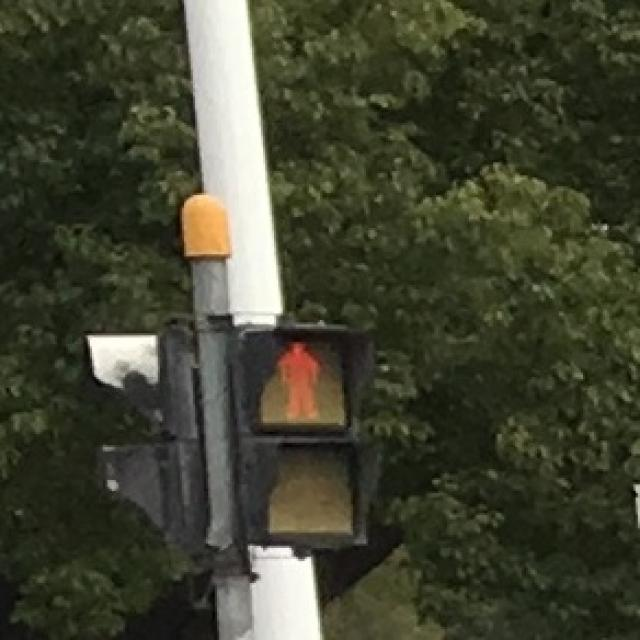red-crossing: (254, 336, 344, 428)
